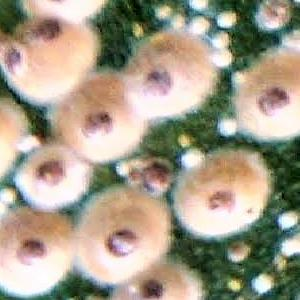Femea: (83, 208, 162, 268), (134, 50, 205, 111), (61, 96, 129, 158), (3, 220, 60, 291), (23, 152, 94, 205), (184, 170, 250, 226), (112, 269, 189, 299), (0, 35, 25, 81)
Linfa: (246, 268, 273, 293), (179, 146, 202, 174), (276, 204, 299, 232), (228, 240, 252, 265), (215, 118, 241, 141), (215, 7, 241, 28), (278, 234, 299, 260), (208, 28, 232, 50), (211, 49, 237, 68), (186, 14, 208, 35)
